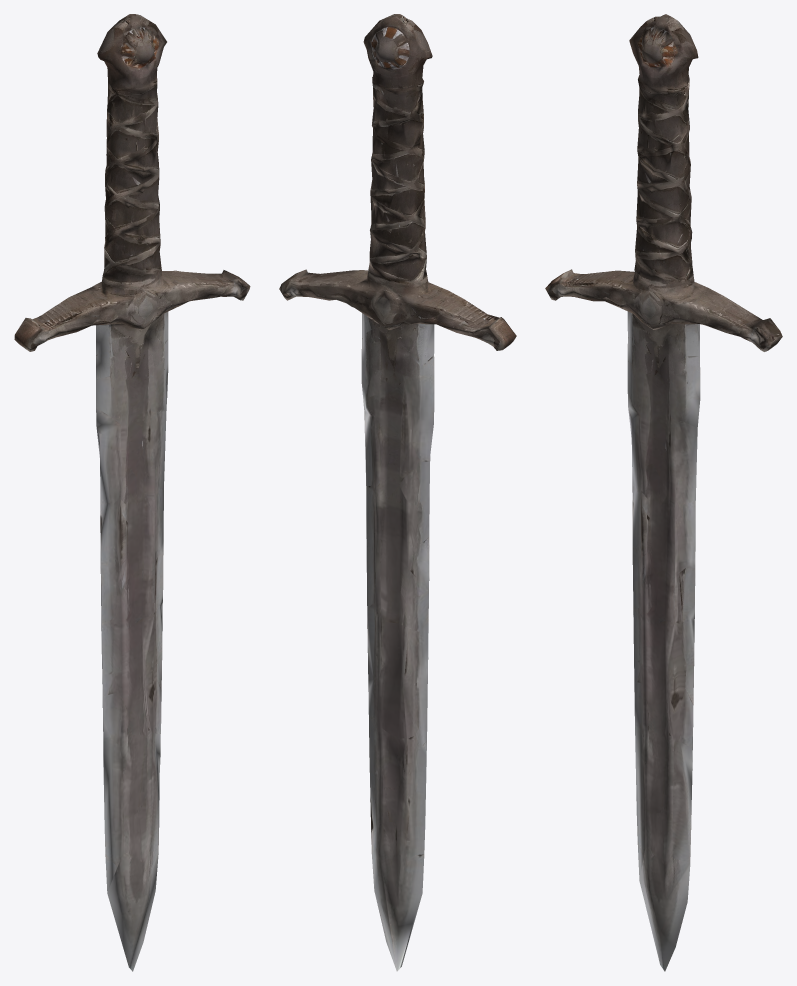
File: longsword.glb
3 renders of one model, left to right at view 1: azimuth 30°, elevation 25°; view 2: azimuth 150°, elevation 25°; view 3: azimuth 330°, elevation 25°, orthographic.
Bounding box in the file's own units: 0.4725 × 1.9 × 0.1062.
1 material, 1 textured.
